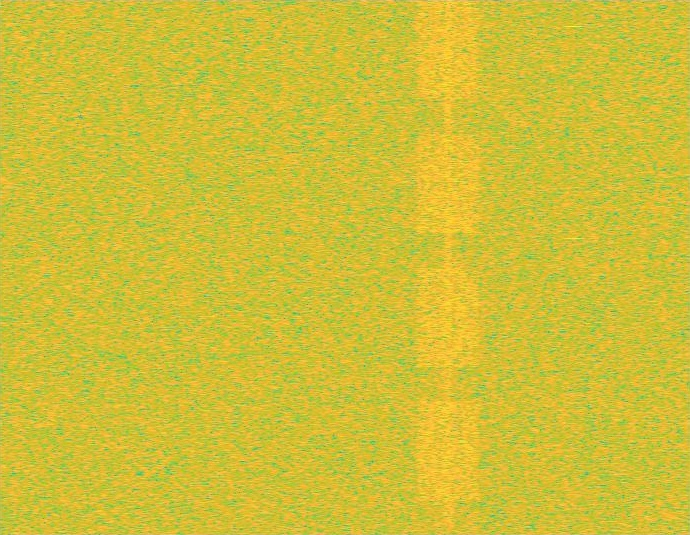5G: (414, 0, 483, 534)
DSSS: (444, 0, 453, 534)
Radar: (567, 0, 581, 534)
